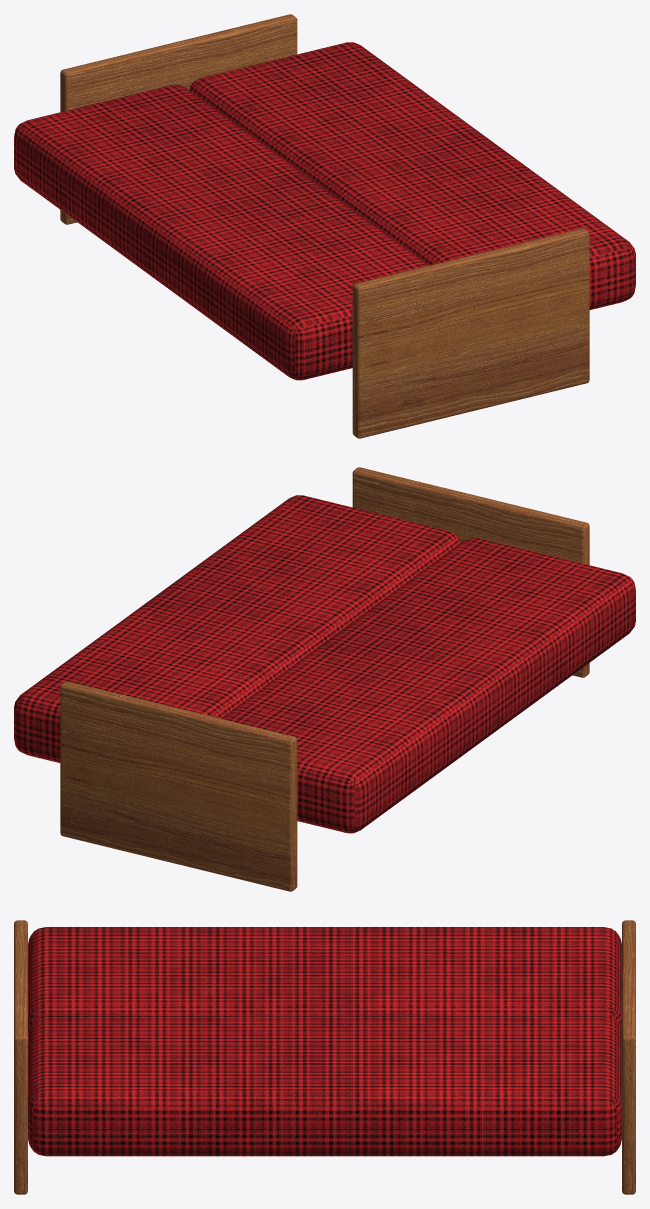
The model's file is bed.glb.
3 views of the same model, one above another, from view 1: azimuth 30°, elevation 25°; view 2: azimuth 150°, elevation 25°; view 3: azimuth 270°, elevation 25° (orthographic). The views are drawn at different scales.
Parts seen in each view (by area): view 1: Cube.007; view 2: Cube.007; view 3: Cube.007.
Part boxes in pixels (<box>): Cube.007: <box>14,14,635,438</box>; Cube.007: <box>14,467,635,891</box>; Cube.007: <box>14,920,635,1194</box>.
Size of the model in its own units: 1.2 by 0.5 by 1.78.
2 materials, 2 textured.
